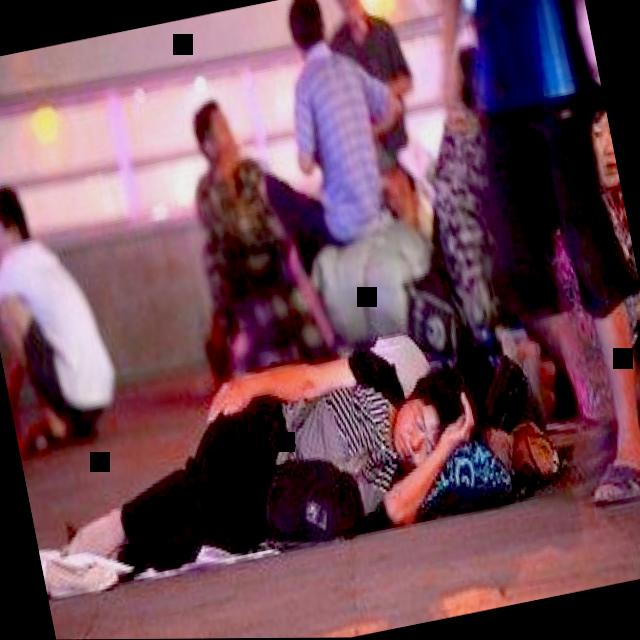Fall-Detected: (7, 295, 504, 600)
